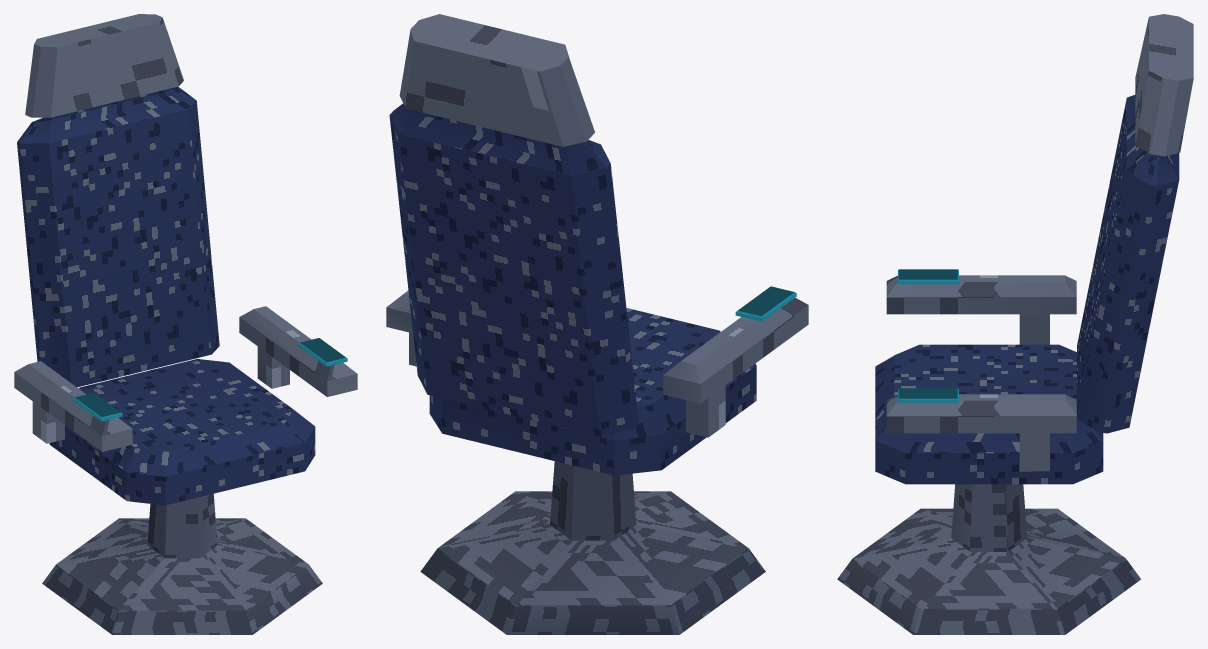
File: tech.seat.glb
3 views of the same model, side by side, from view 1: azimuth 30°, elevation 25°; view 2: azimuth 150°, elevation 25°; view 3: azimuth 270°, elevation 25° (orthographic). The views are drawn at different scales.
Visible parts, largest first — view 1: kit_back, kit_base, kit_seat, kit_headrest, kit_arms, kit_arm_posts, kit_arm_pads; view 2: kit_back, kit_base, kit_headrest, kit_seat, kit_arms, kit_arm_posts, kit_arm_pads; view 3: kit_base, kit_seat, kit_back, kit_arms, kit_headrest, kit_arm_posts, kit_arm_pads.
Boxes of the visible parts, box(x1,y1,x2,y2) form: kit_back: box(17, 86, 219, 387); kit_base: box(42, 494, 322, 634); kit_seat: box(49, 359, 315, 505); kit_headrest: box(25, 14, 183, 117); kit_arms: box(14, 306, 357, 451); kit_arm_posts: box(32, 346, 289, 443); kit_arm_pads: box(73, 338, 347, 421); kit_back: box(389, 103, 638, 436); kit_base: box(420, 461, 765, 634); kit_headrest: box(399, 14, 594, 146); kit_seat: box(429, 308, 756, 475); kit_arms: box(386, 290, 808, 403); kit_arm_posts: box(409, 332, 725, 437); kit_arm_pads: box(735, 286, 796, 321); kit_base: box(837, 484, 1140, 634); kit_seat: box(875, 344, 1103, 484); kit_back: box(1077, 95, 1179, 433); kit_arms: box(886, 275, 1076, 433); kit_headrest: box(1135, 14, 1193, 156); kit_arm_posts: box(1019, 314, 1049, 471); kit_arm_pads: box(898, 269, 958, 403).
Bounding box in the file's own units: 0.84 × 1.55 × 0.9381.
Materials: 5 (5 with a texture image).
